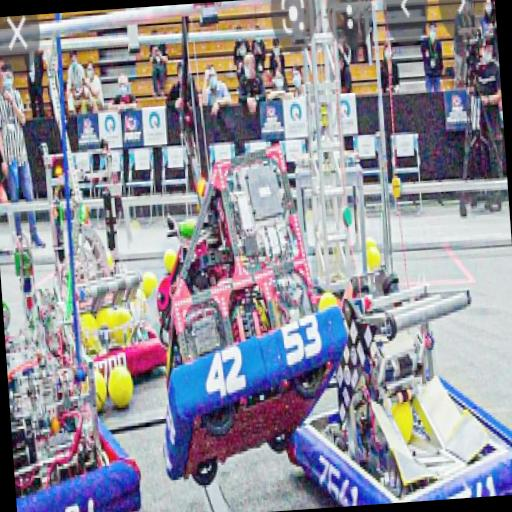robot: (133, 4, 357, 495), (276, 151, 512, 504), (28, 140, 168, 380), (3, 280, 145, 512)
